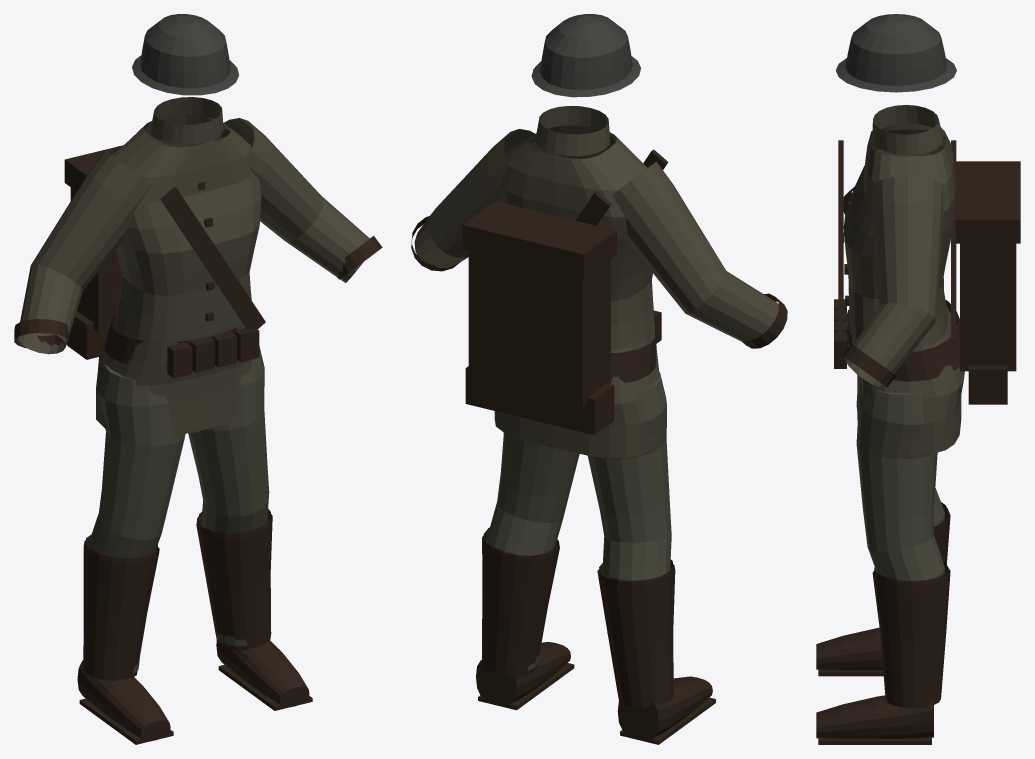
Rendered from tenue_marley_soldat_lod0.glb.
3 renders of one model, left to right at view 1: azimuth 30°, elevation 25°; view 2: azimuth 150°, elevation 25°; view 3: azimuth 270°, elevation 25°, orthographic. The views are drawn at different scales.
Visible parts, largest first — view 1: spine_02, thigh_r, calf_r, calf_l, upperarm_r, thigh_l, head, pelvis, upperarm_l, lowerarm_r, foot_r, foot_l (+2 smaller); view 2: spine_02, calf_r, calf_l, upperarm_r, thigh_r, head, pelvis, thigh_l, upperarm_l, lowerarm_r, foot_r, foot_l (+2 smaller); view 3: spine_02, thigh_l, calf_l, upperarm_l, head, foot_l, lowerarm_l, pelvis, foot_r, neck_01, calf_r.
Boxes of the visible parts, x1,y1,x2,y2 form: spine_02: [64, 114, 265, 406]; thigh_r: [98, 364, 185, 539]; calf_r: [83, 514, 161, 680]; calf_l: [196, 498, 272, 650]; upperarm_r: [31, 150, 151, 289]; thigh_l: [188, 346, 269, 516]; head: [132, 14, 239, 95]; pelvis: [96, 314, 259, 436]; upperarm_l: [203, 118, 323, 241]; lowerarm_r: [14, 264, 82, 354]; foot_r: [77, 660, 173, 744]; foot_l: [216, 640, 312, 710]; spine_02: [462, 125, 668, 435]; calf_r: [597, 536, 675, 707]; calf_l: [482, 502, 563, 676]; upperarm_r: [613, 161, 726, 313]; thigh_r: [588, 372, 671, 542]; head: [531, 14, 640, 97]; pelvis: [494, 310, 661, 458]; thigh_l: [497, 433, 579, 522]; upperarm_l: [428, 129, 555, 257]; lowerarm_r: [686, 271, 787, 348]; foot_r: [617, 676, 715, 744]; foot_l: [476, 642, 574, 710]; spine_02: [838, 123, 1020, 422]; thigh_l: [856, 389, 937, 552]; calf_l: [867, 535, 950, 708]; upperarm_l: [872, 175, 943, 320]; head: [836, 14, 956, 92]; foot_l: [816, 695, 933, 744]; lowerarm_l: [842, 303, 936, 387]; pelvis: [834, 299, 961, 454]; foot_r: [816, 627, 883, 676]; neck_01: [872, 105, 943, 155]; calf_r: [934, 488, 950, 564].
Size of the model in its own units: 0.979 by 1.74 by 0.472.
